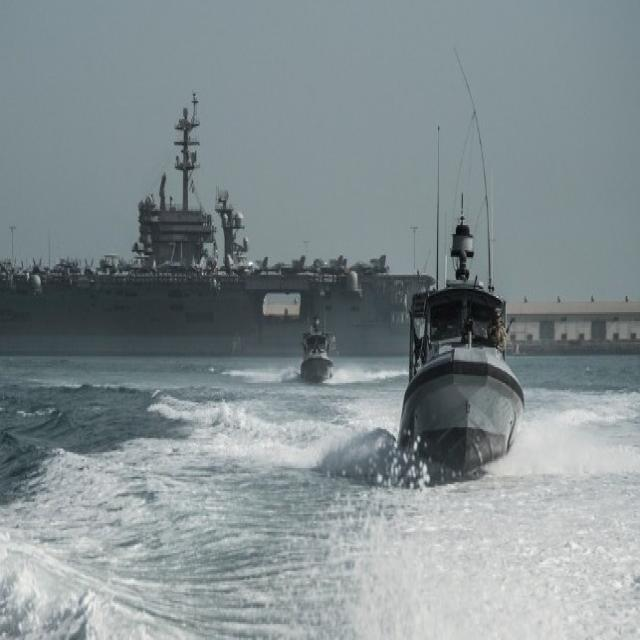navalvessels: (0, 103, 460, 366), (388, 158, 520, 484), (292, 314, 338, 383)
